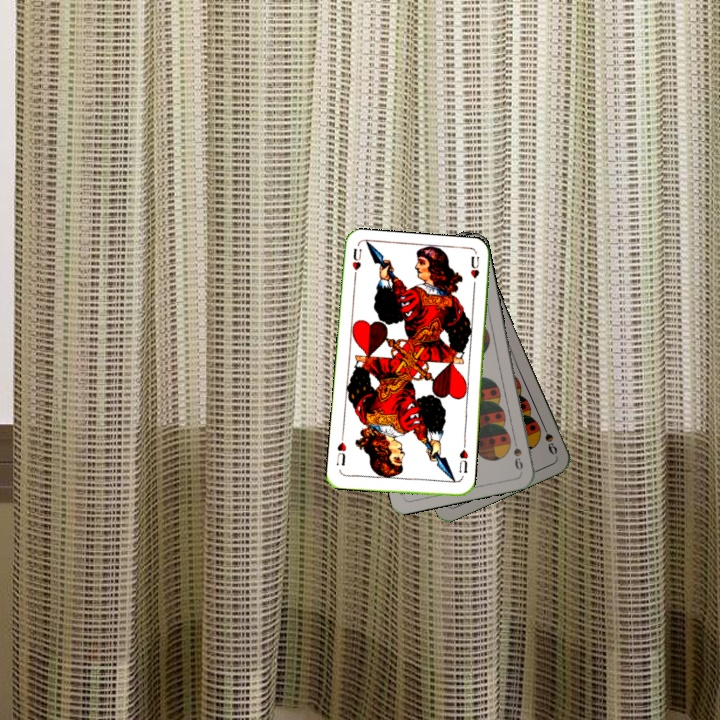HU: (348, 244, 364, 284), (455, 441, 471, 476)
S9: (537, 419, 560, 457), (509, 433, 526, 473)
